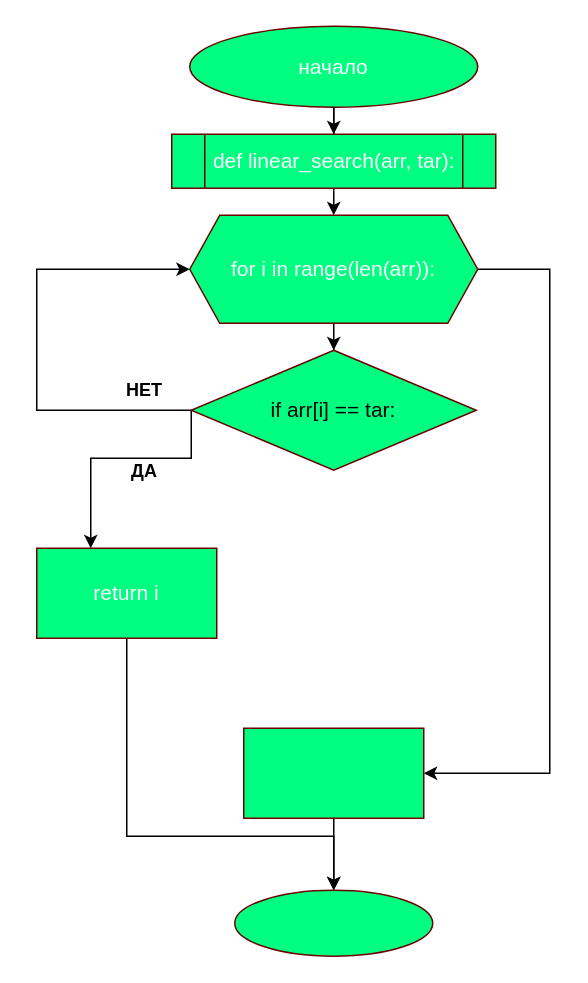
Some shapes in this 588 by 983 pixel diagram are drawn without their labels. Each missing label, with the centre of its shape:
"return -1" belongs at point 333,772.
"конец" belongs at point 333,922.
